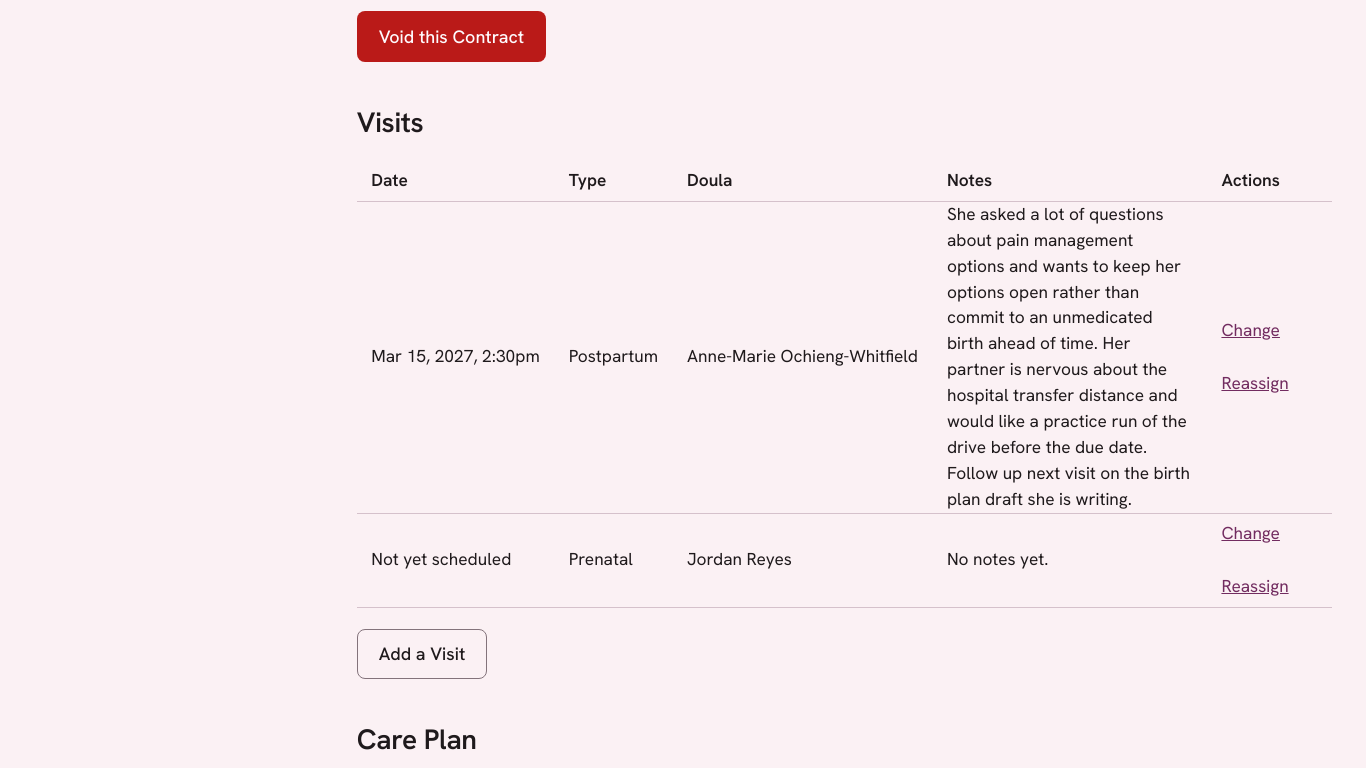
Test: the on-call section after a Visit puts a Doula on the birth (#2568) › lists the Doula a reassigned Visit attaches, without a reload
(page scrolled)
Click the button "Reassign" in the row of "Mar 15, 2027, 2:30pm": click(1255, 384) [1221,365,1289,404]
(page scrolled)
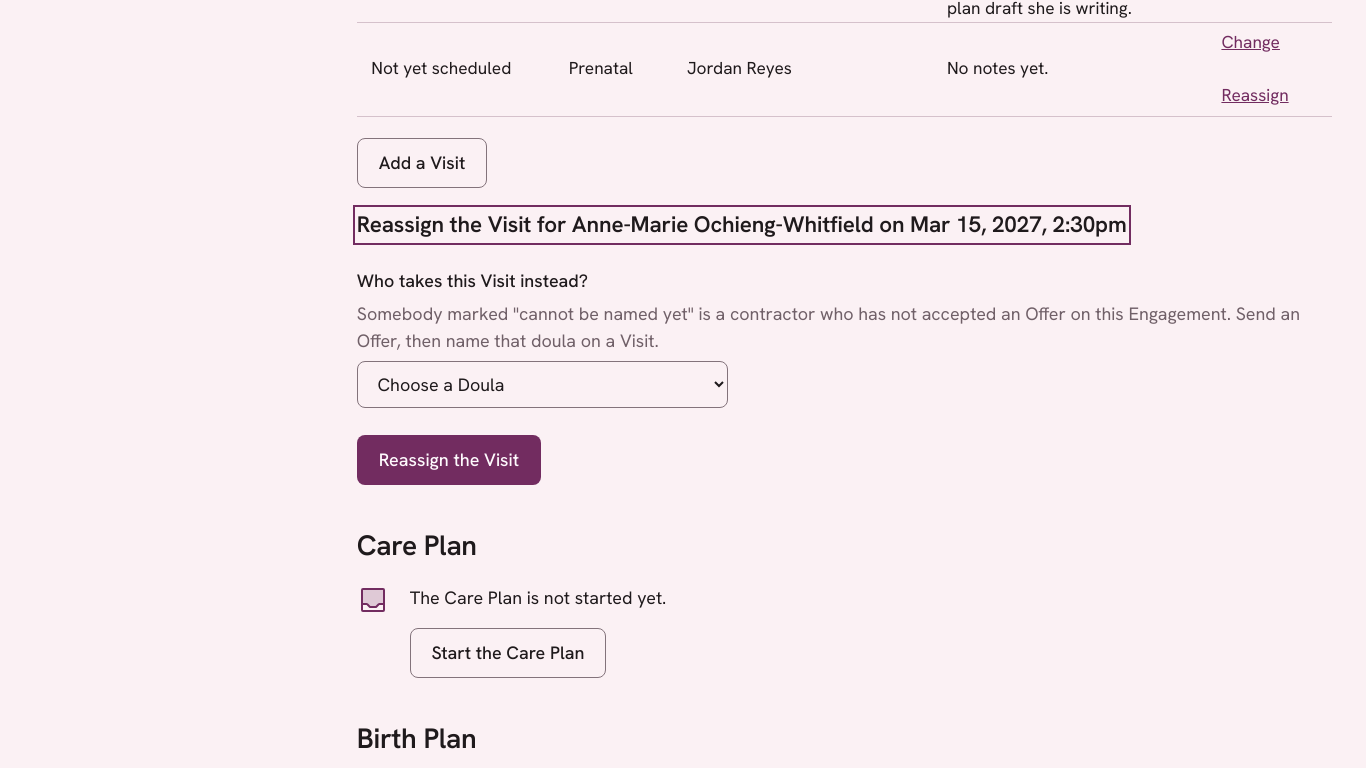
Select "Jordan Reyes" in the dropdown labelled "Who takes this Visit instead?": (542, 384) [357,360,728,408]
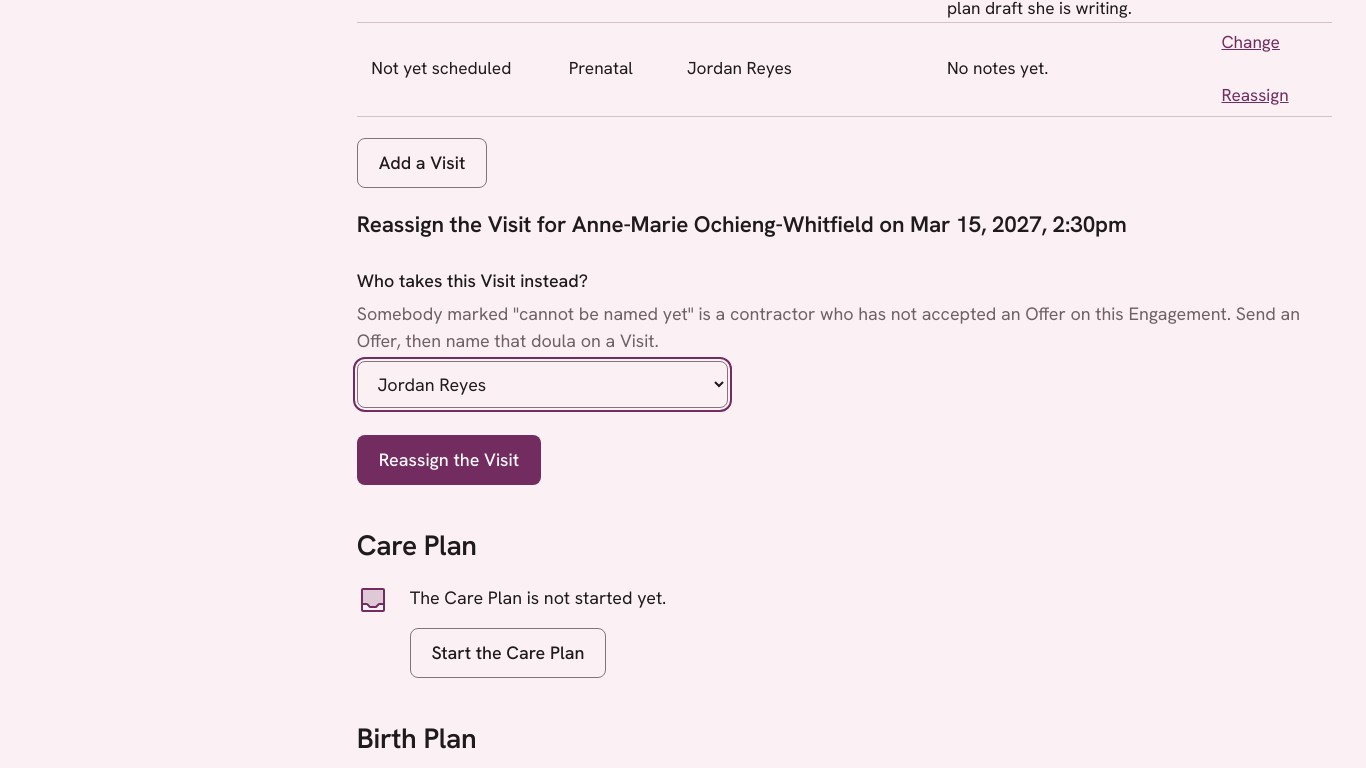
Click the button "Reassign the Visit": click(449, 460) [357,434,541,485]
(page scrolled)
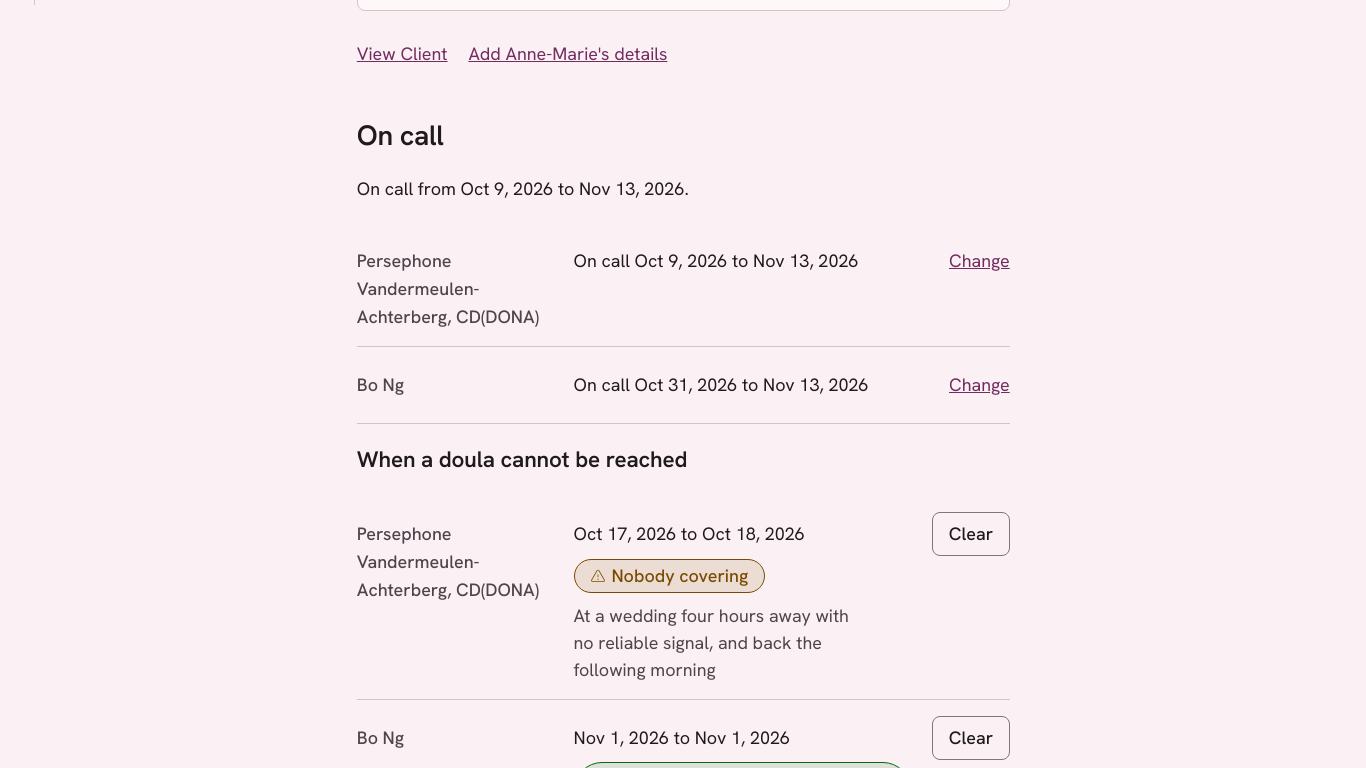
Expected: the text "On call Oct 31, 2026 to Nov 13, 2026" is shown, [574,373,868,396]
